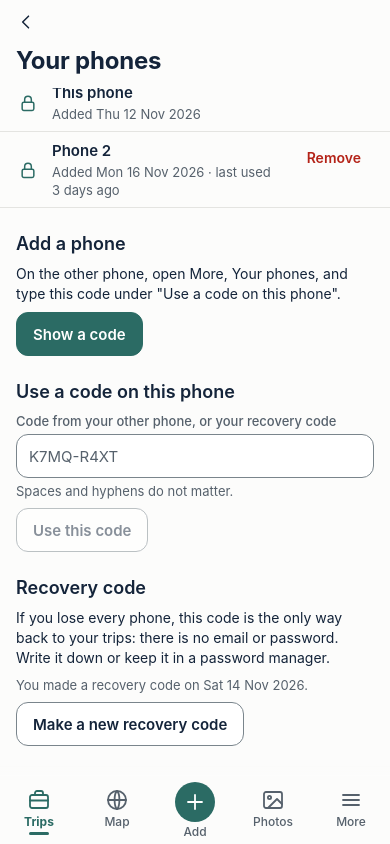
Test: the recovery code is shown once; replacing one asks first
(page scrolled)
Expected: the text "You made a recovery code on Sat 14 Nov 2026." is shown, [16,677,308,693]
Click the button with test id "devices-recovery". click: (130, 724)
box: [16,702,244,746]
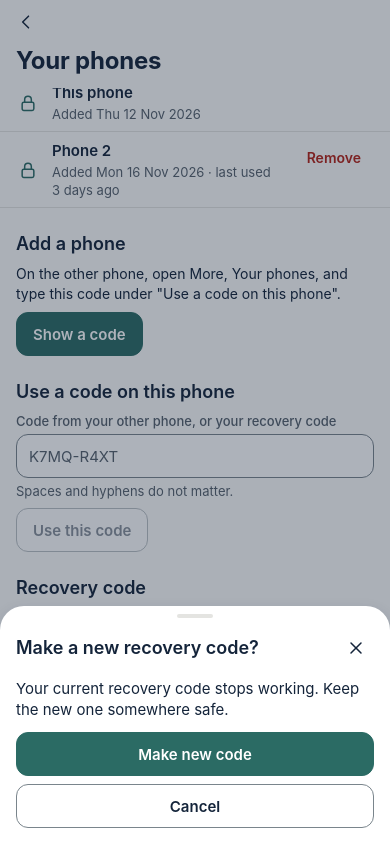
Click the button with test id "devices-recovery-confirm". click: (195, 754)
box: [16,732,374,776]
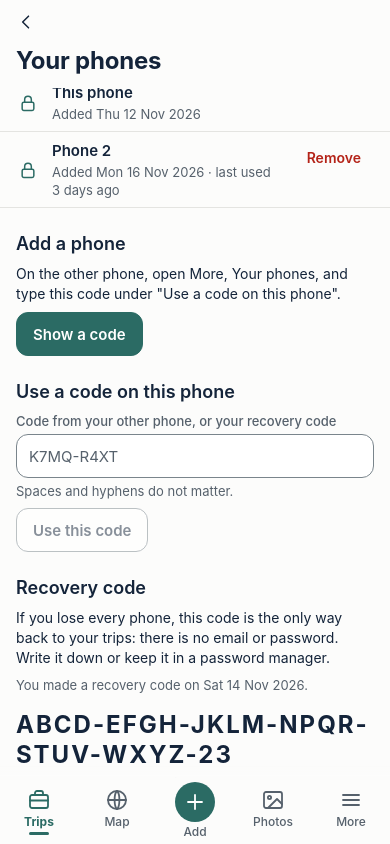
Expected: the text with test id "recovery-code" reads "ABCD-EFGH-JKLM-NPQR-STUV-WXYZ-23", [16,710,369,769]
